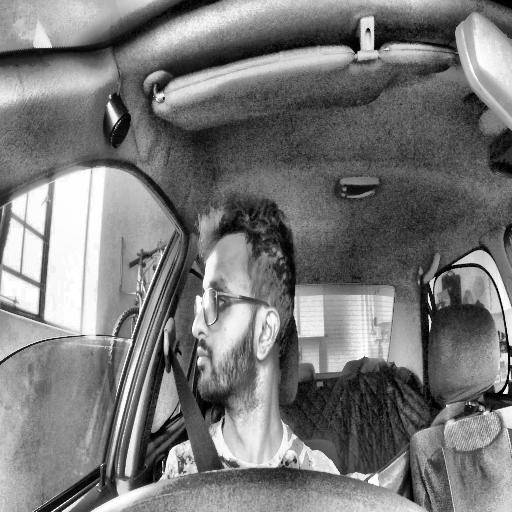awake: (191, 195, 295, 407)
